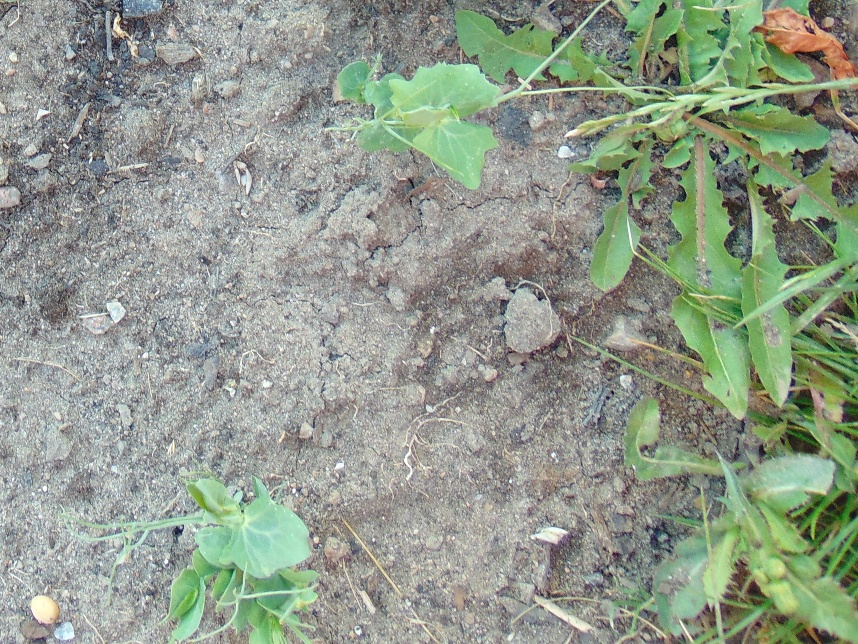crop: (113, 473, 318, 644), (334, 55, 507, 192)
weed: (561, 1, 858, 427), (627, 392, 858, 644), (777, 292, 858, 605), (454, 1, 602, 88)
